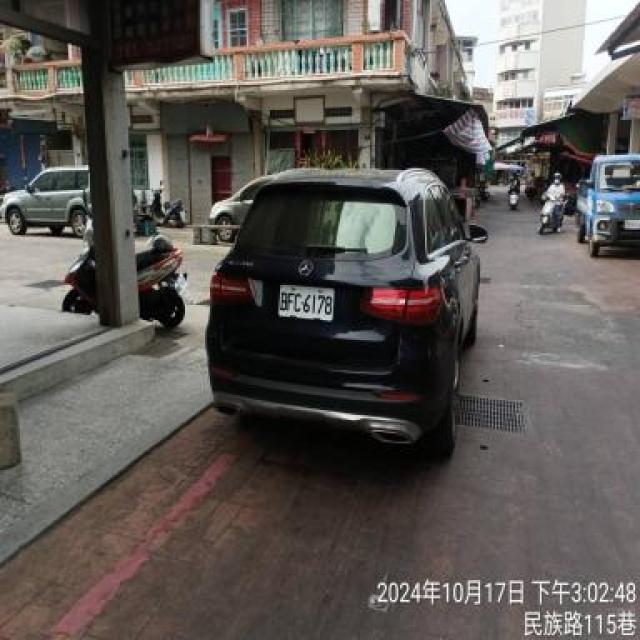illegalparking: (205, 168, 487, 455), (0, 168, 95, 312), (577, 153, 638, 245), (135, 233, 183, 327)
